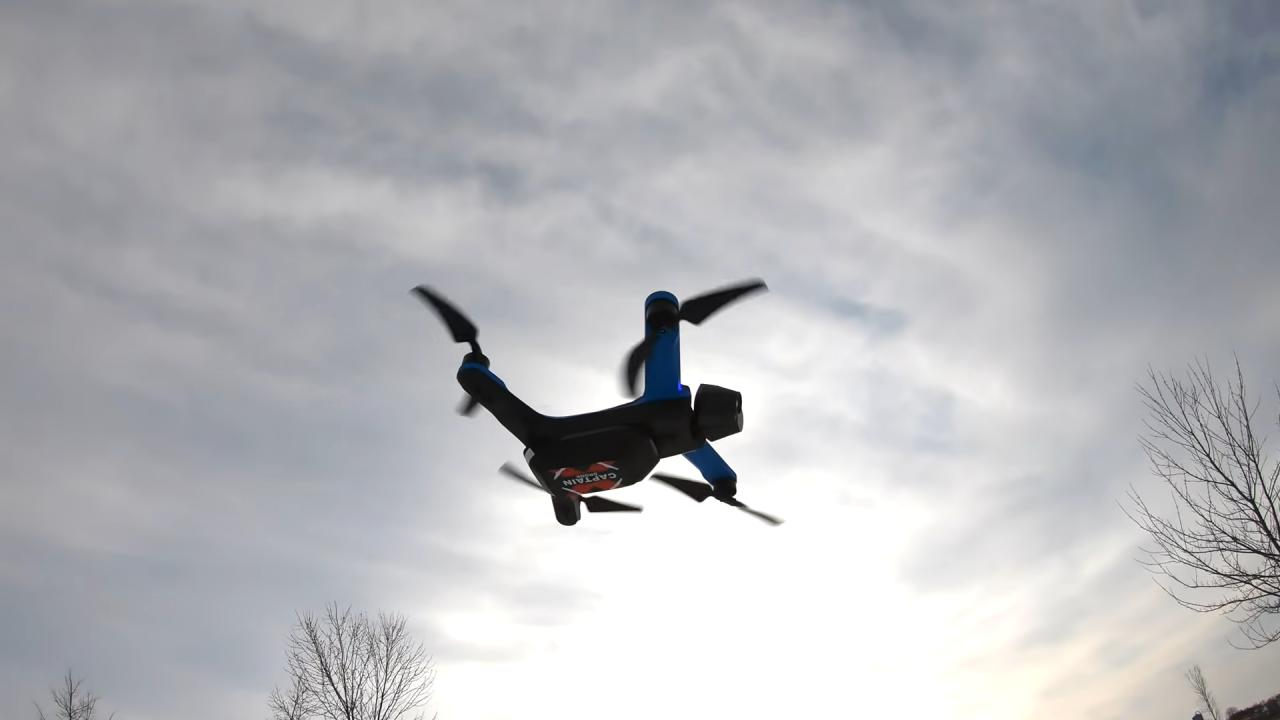Drone: (391, 258, 808, 551)
